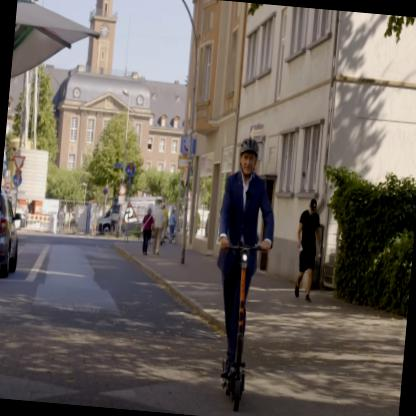helmet: (235, 135, 262, 180)
human: (219, 135, 272, 351)
kickboard: (220, 350, 249, 414)
